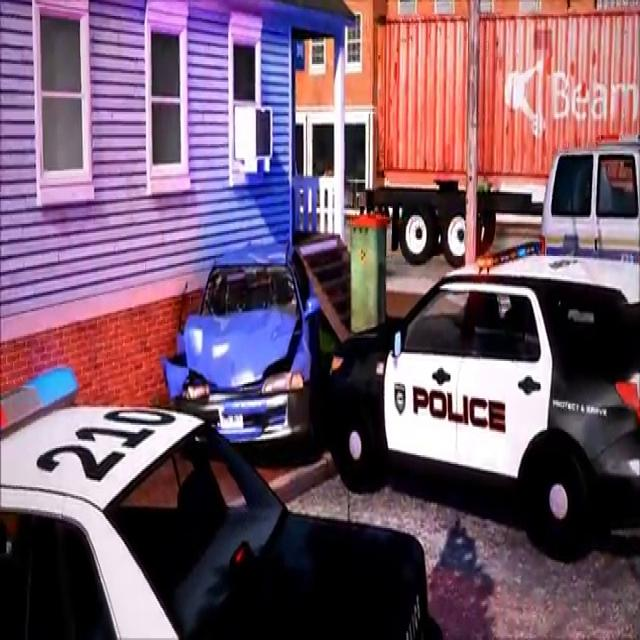moderate: (157, 228, 640, 559)
